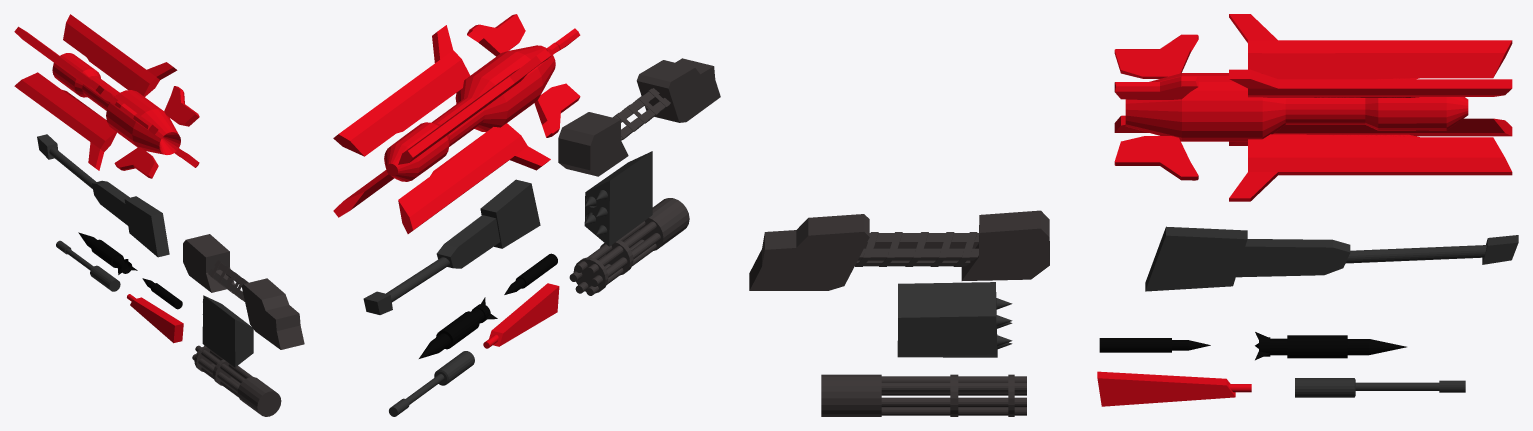
File: weapons.fbx
3 views of the same model, side by side, from view 1: azimuth 30°, elevation 25°; view 2: azimuth 150°, elevation 25°; view 3: azimuth 270°, elevation 25° (orthographic). The views are drawn at different scales.
Parts seen in each view (by area): view 1: Cylinder, railgun, large cannon, mini-gun, launcher, laser, missile, cannon, missle half transform; view 2: Cylinder, railgun, large cannon, mini-gun, launcher, laser, missile, cannon, missle half transform; view 3: Cylinder, railgun, large cannon, mini-gun, launcher, laser, missile, cannon, missle half transform.
Boxes of the visible parts, x1,y1,x2,y2 form: Cylinder: (14, 14, 199, 178); railgun: (183, 234, 304, 349); large cannon: (37, 134, 169, 257); mini-gun: (192, 345, 281, 416); launcher: (202, 295, 253, 367); laser: (127, 294, 183, 343); missile: (78, 232, 137, 274); cannon: (56, 240, 120, 291); missle half transform: (142, 278, 182, 309); Cylinder: (333, 14, 580, 233); railgun: (558, 58, 720, 176); large cannon: (363, 179, 540, 314); mini-gun: (569, 198, 689, 295); launcher: (584, 151, 652, 246); laser: (483, 283, 559, 348); missile: (419, 297, 497, 358); cannon: (389, 351, 474, 416); missle half transform: (504, 253, 557, 294); Cylinder: (1114, 14, 1512, 201); railgun: (749, 210, 1049, 290); large cannon: (1145, 226, 1518, 291); mini-gun: (821, 374, 1026, 416); launcher: (897, 282, 1012, 357); laser: (1097, 371, 1251, 406); missile: (1255, 332, 1406, 360); cannon: (1295, 378, 1465, 397); missle half transform: (1099, 338, 1210, 352).
Bounding box in the file's own units: 87.43 × 247 × 461.
